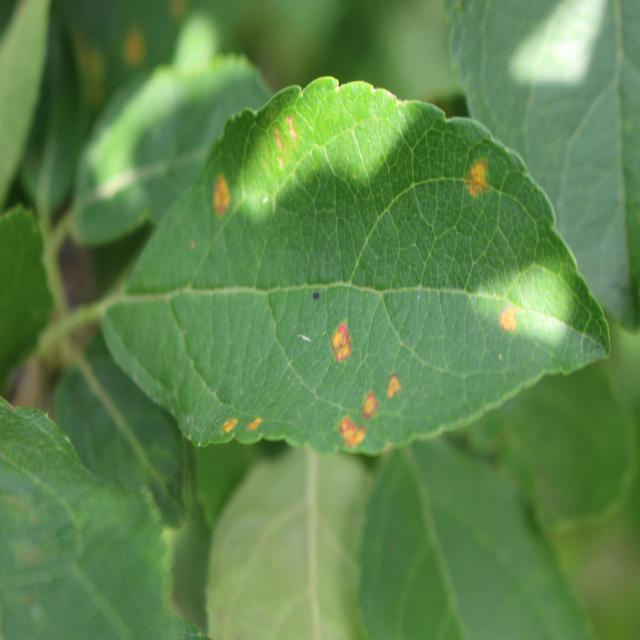Rust: (331, 415, 388, 473), (457, 136, 494, 224), (267, 97, 304, 182), (384, 362, 426, 428), (488, 295, 529, 350), (202, 174, 242, 229), (321, 311, 355, 365), (351, 380, 383, 426), (212, 400, 244, 445), (248, 402, 268, 452)
